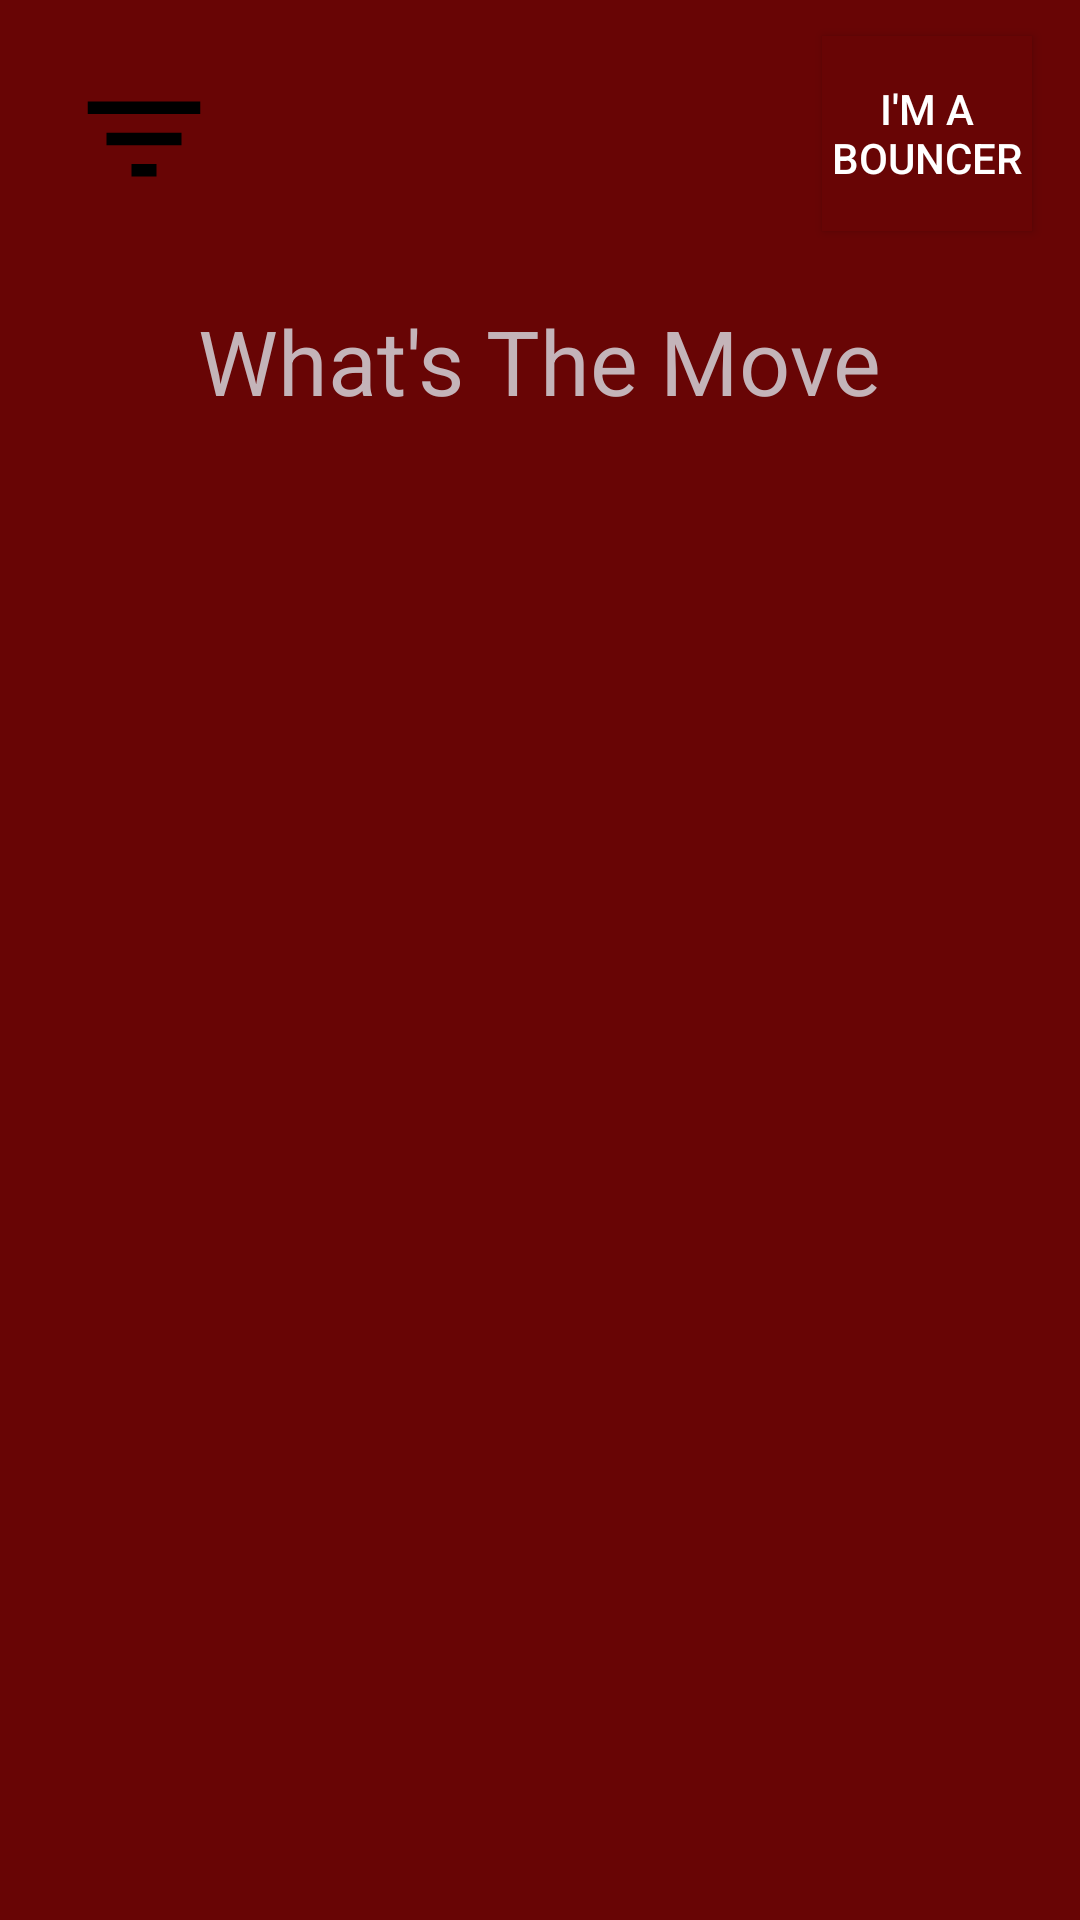

Locate icon controls on the screen. Image size 1080 x 1920, boxes as [left=x1, top=y1, right=x2, bottom=y2].
filter list: [left=87, top=101, right=201, bottom=177]
